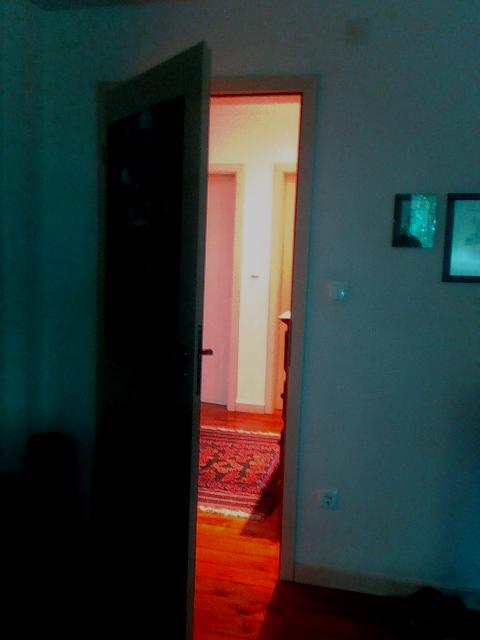semi_door: (92, 36, 317, 639)
